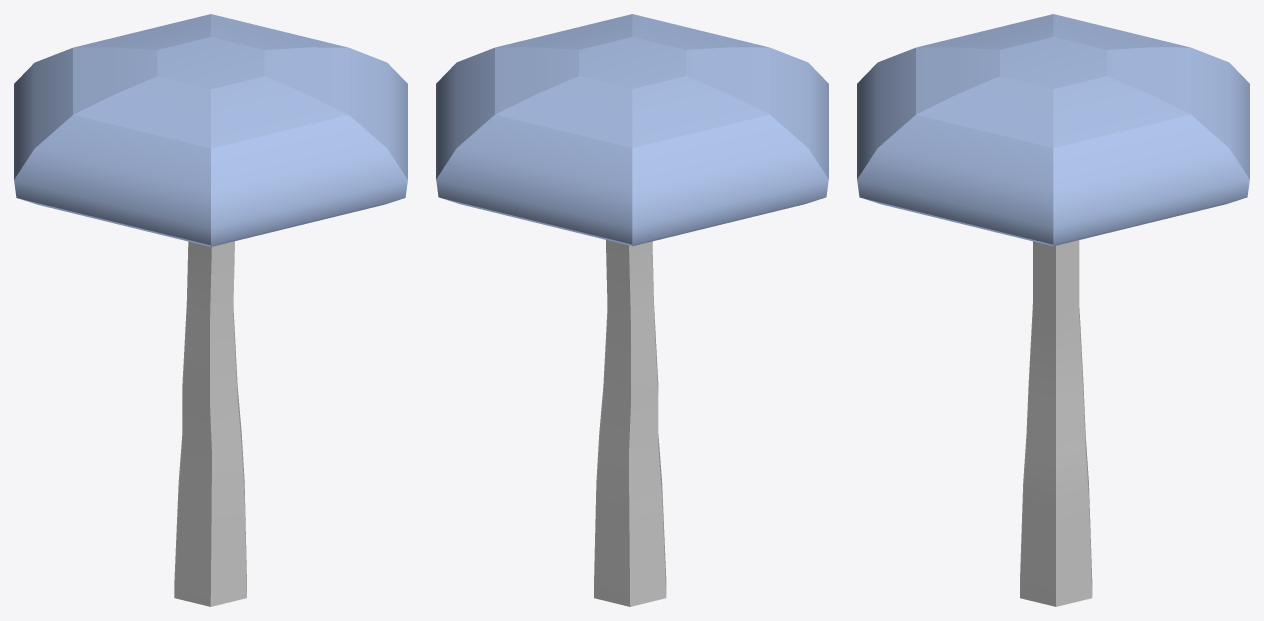
Rendered from mushroom6.fbx.
3 renders of one model, left to right at view 1: azimuth 30°, elevation 25°; view 2: azimuth 150°, elevation 25°; view 3: azimuth 270°, elevation 25°, orthographic.
Visible parts, largest first — view 1: pCylinder50, pCylinder49; view 2: pCylinder50, pCylinder49; view 3: pCylinder50, pCylinder49.
Boxes of the visible parts, x1,y1,x2,y2 form: pCylinder50: (14, 14, 407, 246); pCylinder49: (174, 241, 246, 606); pCylinder50: (436, 14, 828, 246); pCylinder49: (594, 240, 666, 606); pCylinder50: (857, 14, 1249, 246); pCylinder49: (1020, 240, 1092, 606).
Size of the model in its own units: 6.2 by 7.96 by 5.37.
